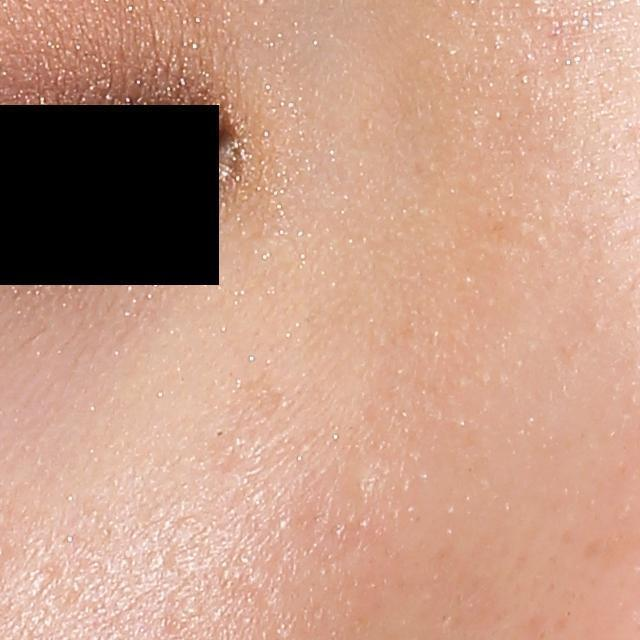comedo: (352, 468, 379, 497)
